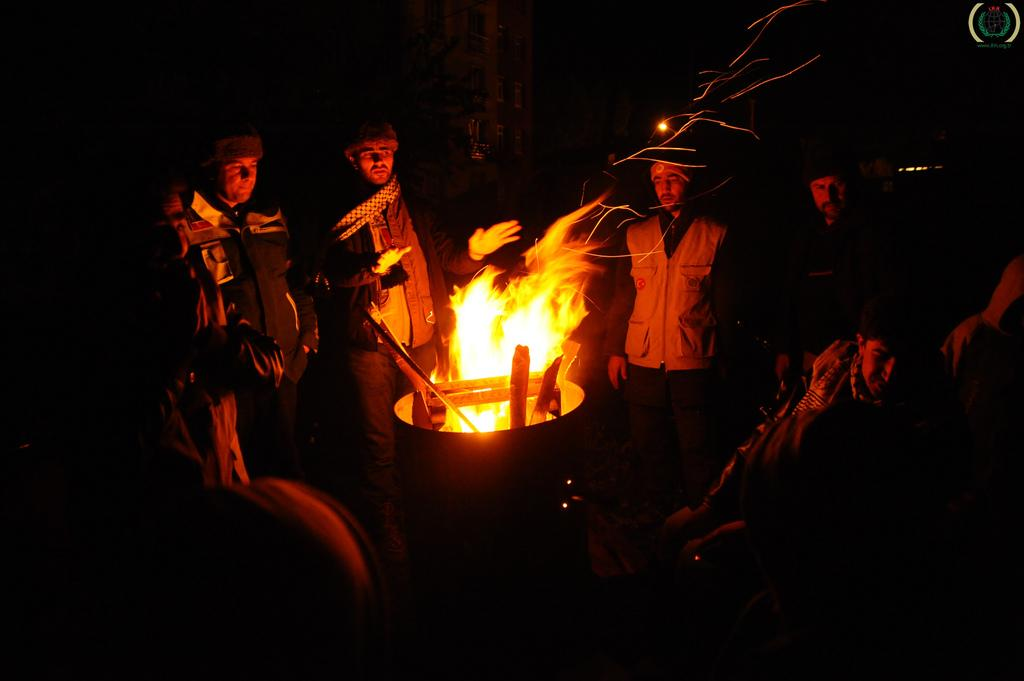fire: (443, 280, 560, 378)
